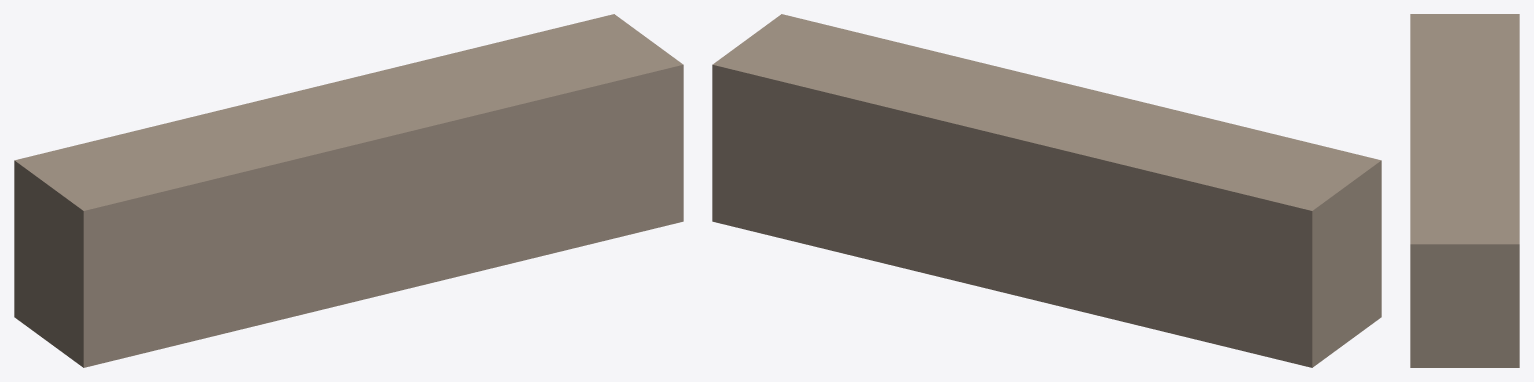
File: Wood_Baseboard.glb
3 renders of one model, left to right at view 1: azimuth 30°, elevation 25°; view 2: azimuth 150°, elevation 25°; view 3: azimuth 270°, elevation 25°, orthographic. The views are drawn at different scales.
Visible parts, largest first — view 1: object1; view 2: object1; view 3: object1.
Boxes of the visible parts, bbox=[...] form: object1: bbox=[14, 14, 683, 367]; object1: bbox=[712, 14, 1381, 367]; object1: bbox=[1410, 14, 1519, 367].
Bounding box in the file's own units: 1 × 0.25 × 0.2.
